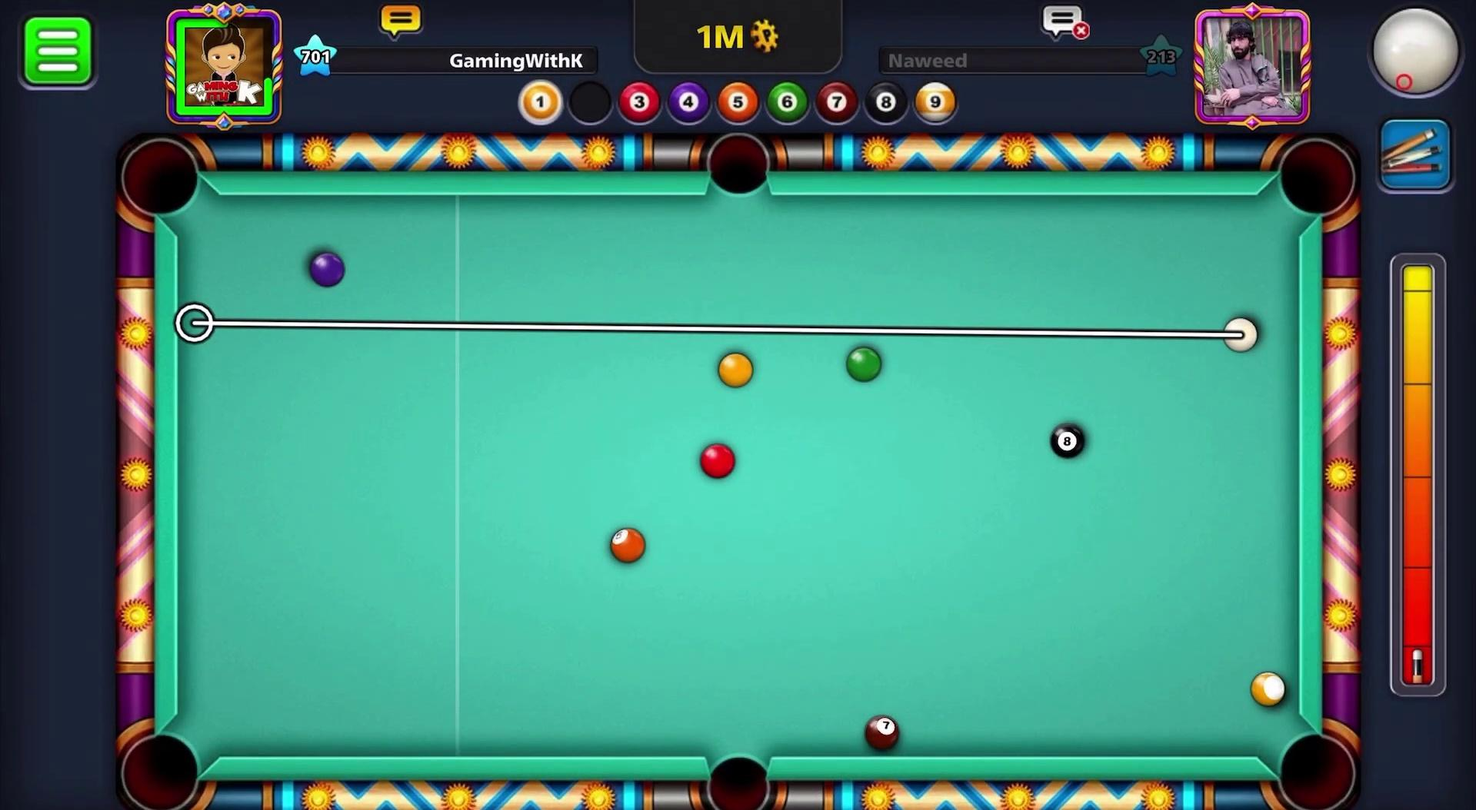Ball: (302, 250, 352, 297), (855, 712, 905, 755), (711, 346, 758, 391), (839, 341, 887, 385), (603, 524, 651, 568), (1046, 417, 1091, 462), (696, 443, 737, 480), (1248, 668, 1288, 705)
Force: (1387, 250, 1451, 700)
Guideline: (173, 303, 1258, 351)
Hole: (110, 123, 218, 236), (1268, 128, 1365, 231), (1264, 715, 1364, 809), (111, 719, 211, 809), (685, 739, 786, 809), (700, 124, 777, 201)
Play_Area: (173, 194, 1298, 761)
Spin: (1347, 0, 1475, 117)
White: (1225, 309, 1265, 360)
